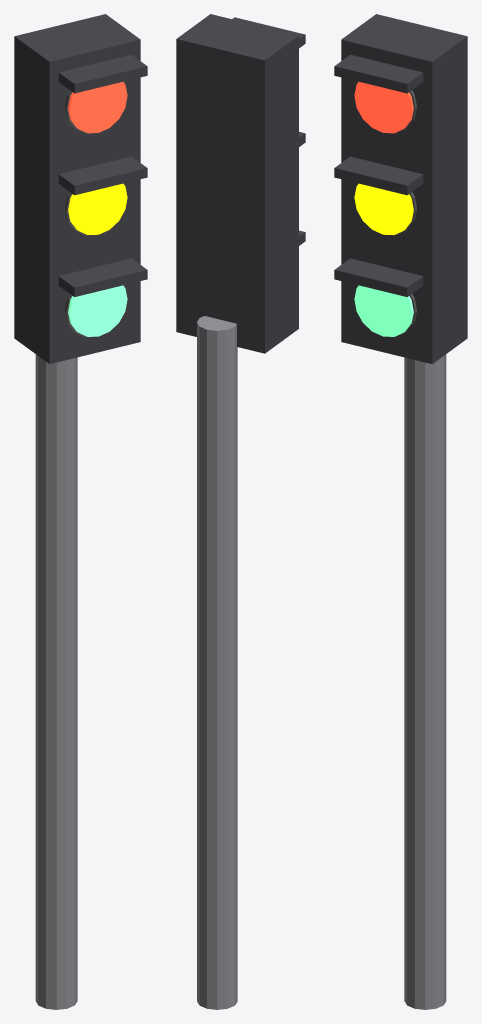
The model's file is EQ_TrafficLight.glb.
3 views of the same model, side by side, from view 1: azimuth 30°, elevation 25°; view 2: azimuth 150°, elevation 25°; view 3: azimuth 330°, elevation 25° (orthographic). The views are drawn at different scales.
Parts seen in each view (by area): view 1: TL_Pole, TL_Red_On, TL_Green_On, TL_Amber_On; view 2: TL_Pole; view 3: TL_Pole, TL_Red_On, TL_Green_On, TL_Amber_On.
Boxes of the visible parts, left/top/right/bottom form: TL_Pole: left=14, top=14, right=147, bottom=1009; TL_Red_On: left=68, top=82, right=127, bottom=133; TL_Green_On: left=68, top=285, right=127, bottom=336; TL_Amber_On: left=68, top=183, right=127, bottom=234; TL_Pole: left=176, top=14, right=305, bottom=1009; TL_Pole: left=334, top=14, right=467, bottom=1009; TL_Red_On: left=354, top=82, right=413, bottom=133; TL_Green_On: left=354, top=285, right=413, bottom=336; TL_Amber_On: left=354, top=183, right=413, bottom=234.
Size of the model in its own units: 0.3 by 3.07 by 0.37.
